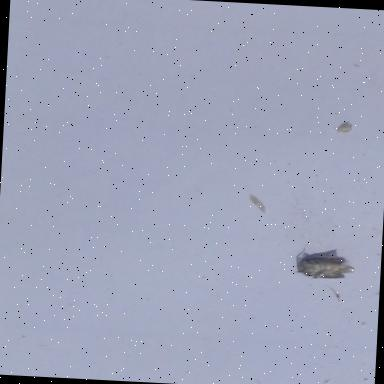pbw: (295, 250, 355, 282)
